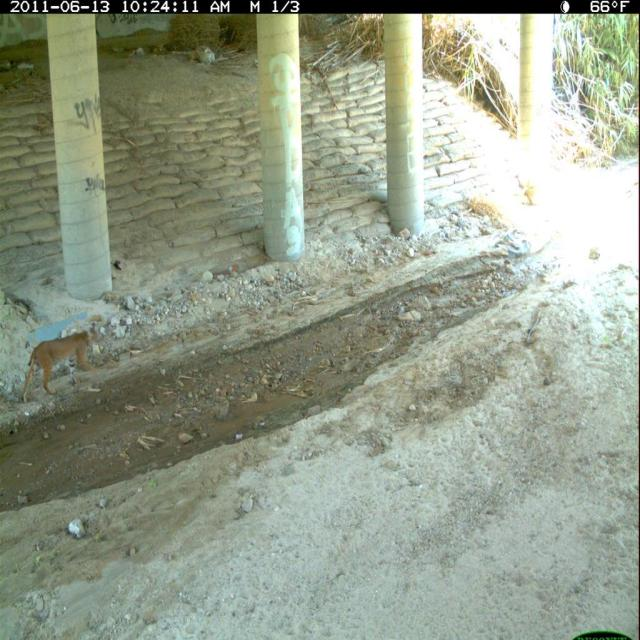bobcat: (15, 322, 109, 408)
